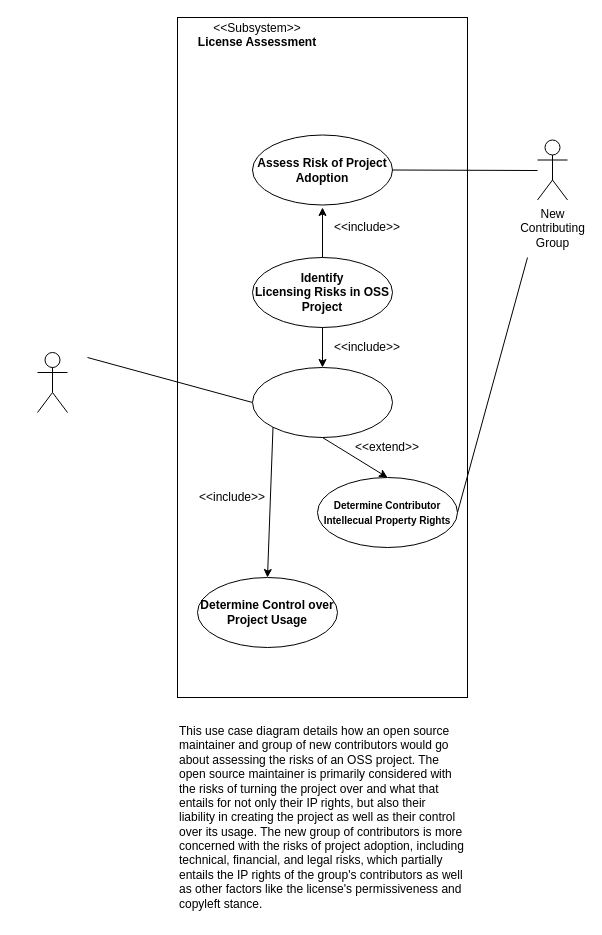
The diagram is 602 pixels wide and 935 high, and some of its shapes have lost their labels. The centre of each missing label's shape, as x and y in pixels:
Assess Risk of Project Turnover: the point at 322,402
Open Source Maintainer: the point at 52,382
